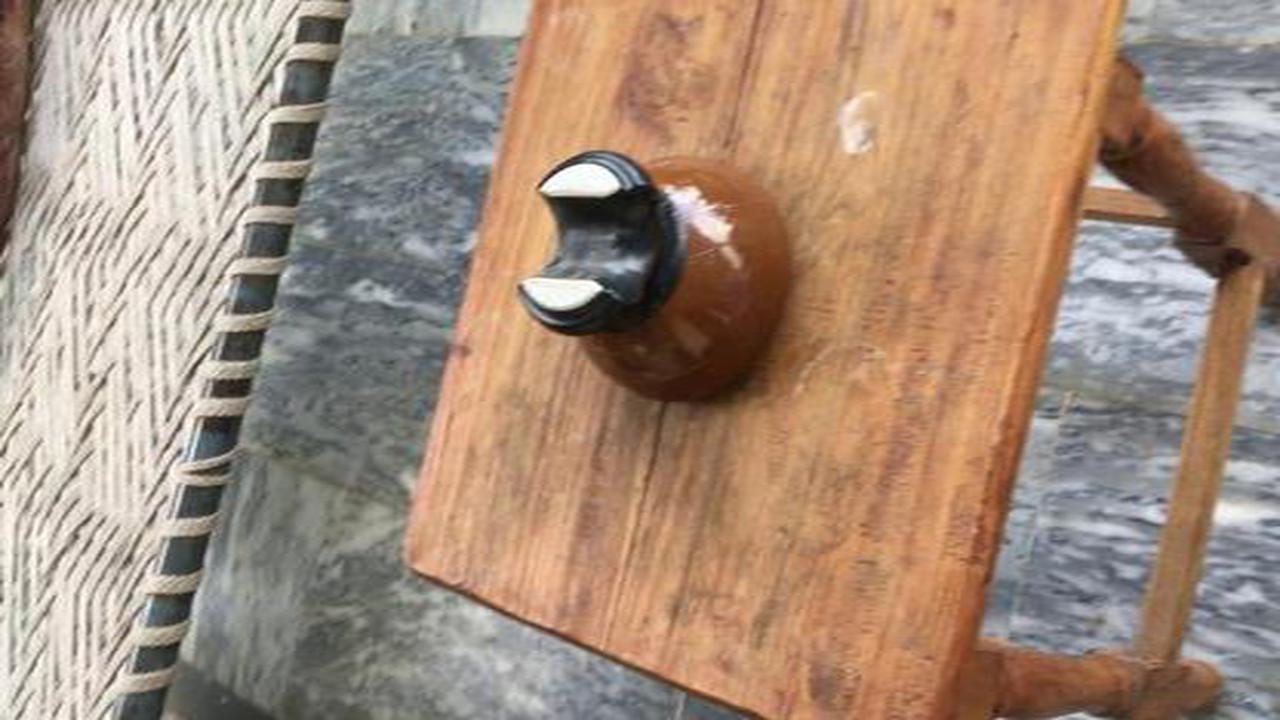insulator_pin: (502, 141, 816, 426)
